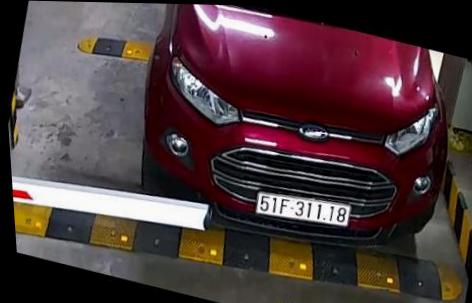License_Plate: (254, 189, 357, 233)
